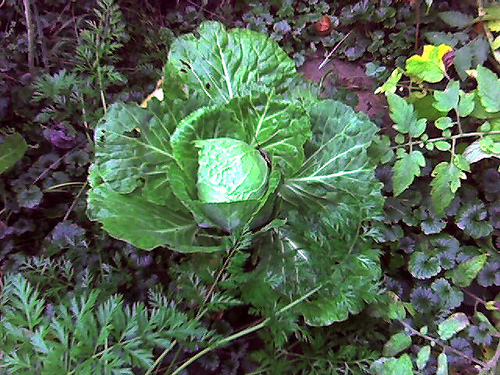cabbage: (88, 20, 384, 326)
